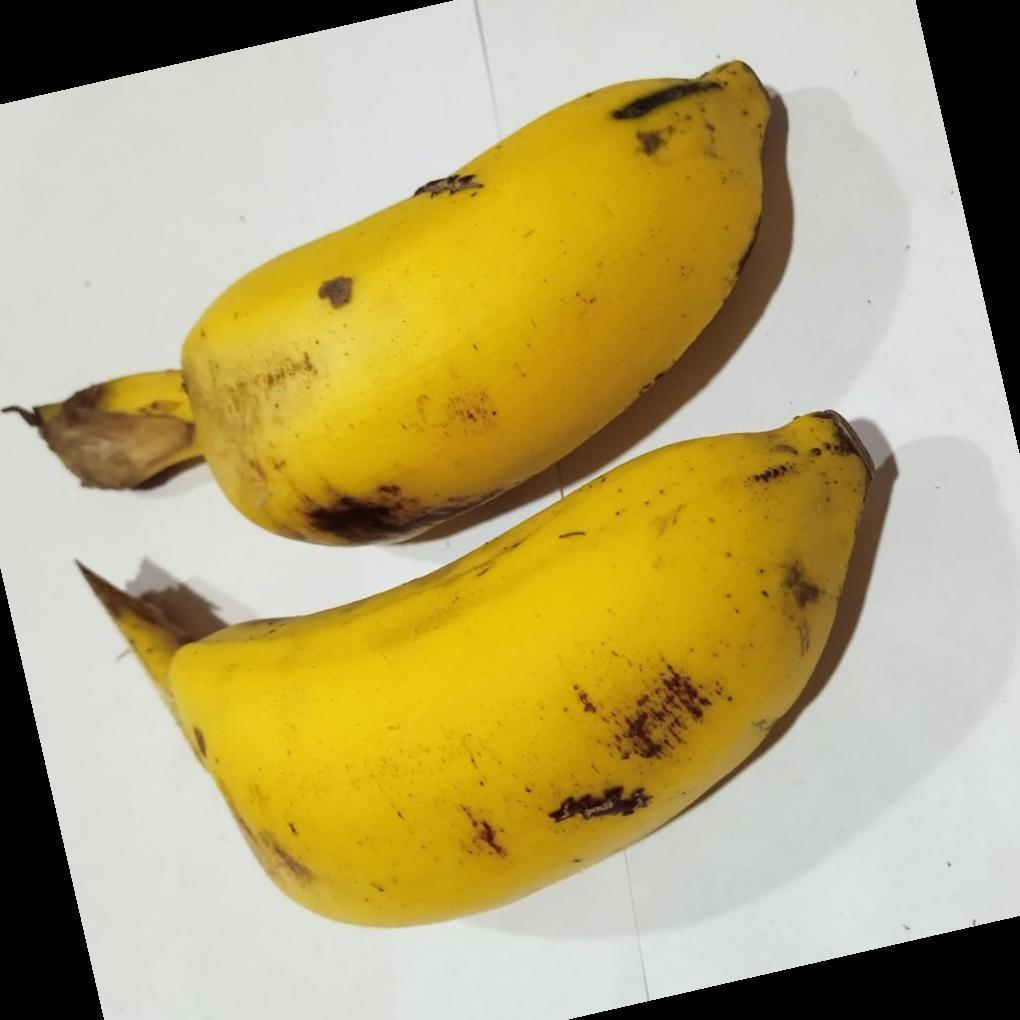Banana Ripe: (113, 407, 912, 929), (95, 54, 837, 544)
